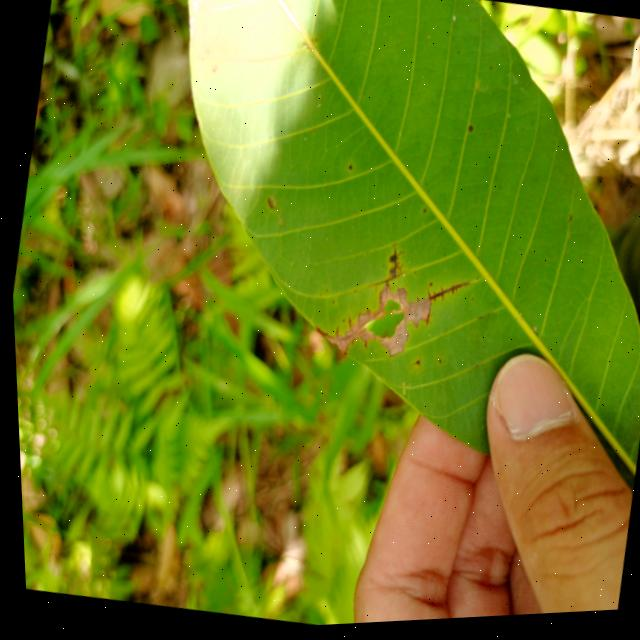Colletotrichum: (467, 129, 472, 136), (346, 167, 351, 172)
Corynespora: (363, 242, 406, 297), (420, 277, 469, 316)
Leaf-Blight: (317, 276, 431, 372)
